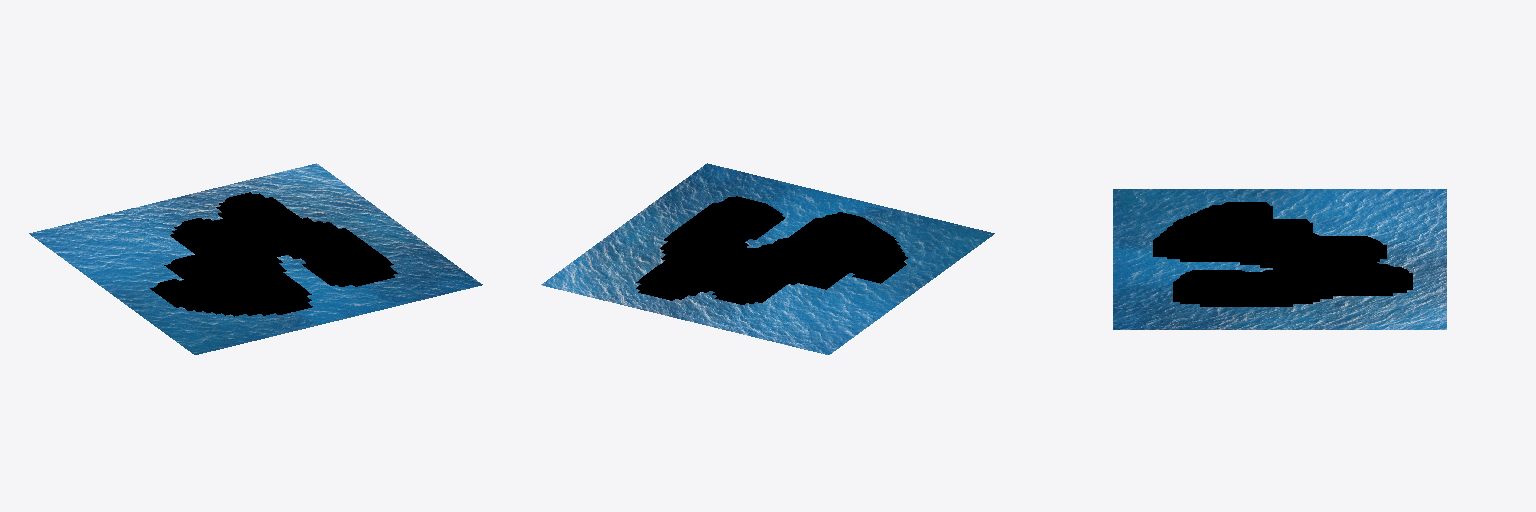
3 views of the same model, side by side, from view 1: azimuth 30°, elevation 25°; view 2: azimuth 150°, elevation 25°; view 3: azimuth 270°, elevation 25° (orthographic).
Visible parts, largest first — view 1: pPlane1; view 2: pPlane1; view 3: pPlane1.
Part boxes in pixels (x1,y1,x2,y2): pPlane1: (29, 163, 482, 354); pPlane1: (541, 163, 994, 354); pPlane1: (1113, 189, 1446, 329).
Size of the model in its own units: 400 by 8.96 by 400.
Materials: 3 (1 with a texture image).